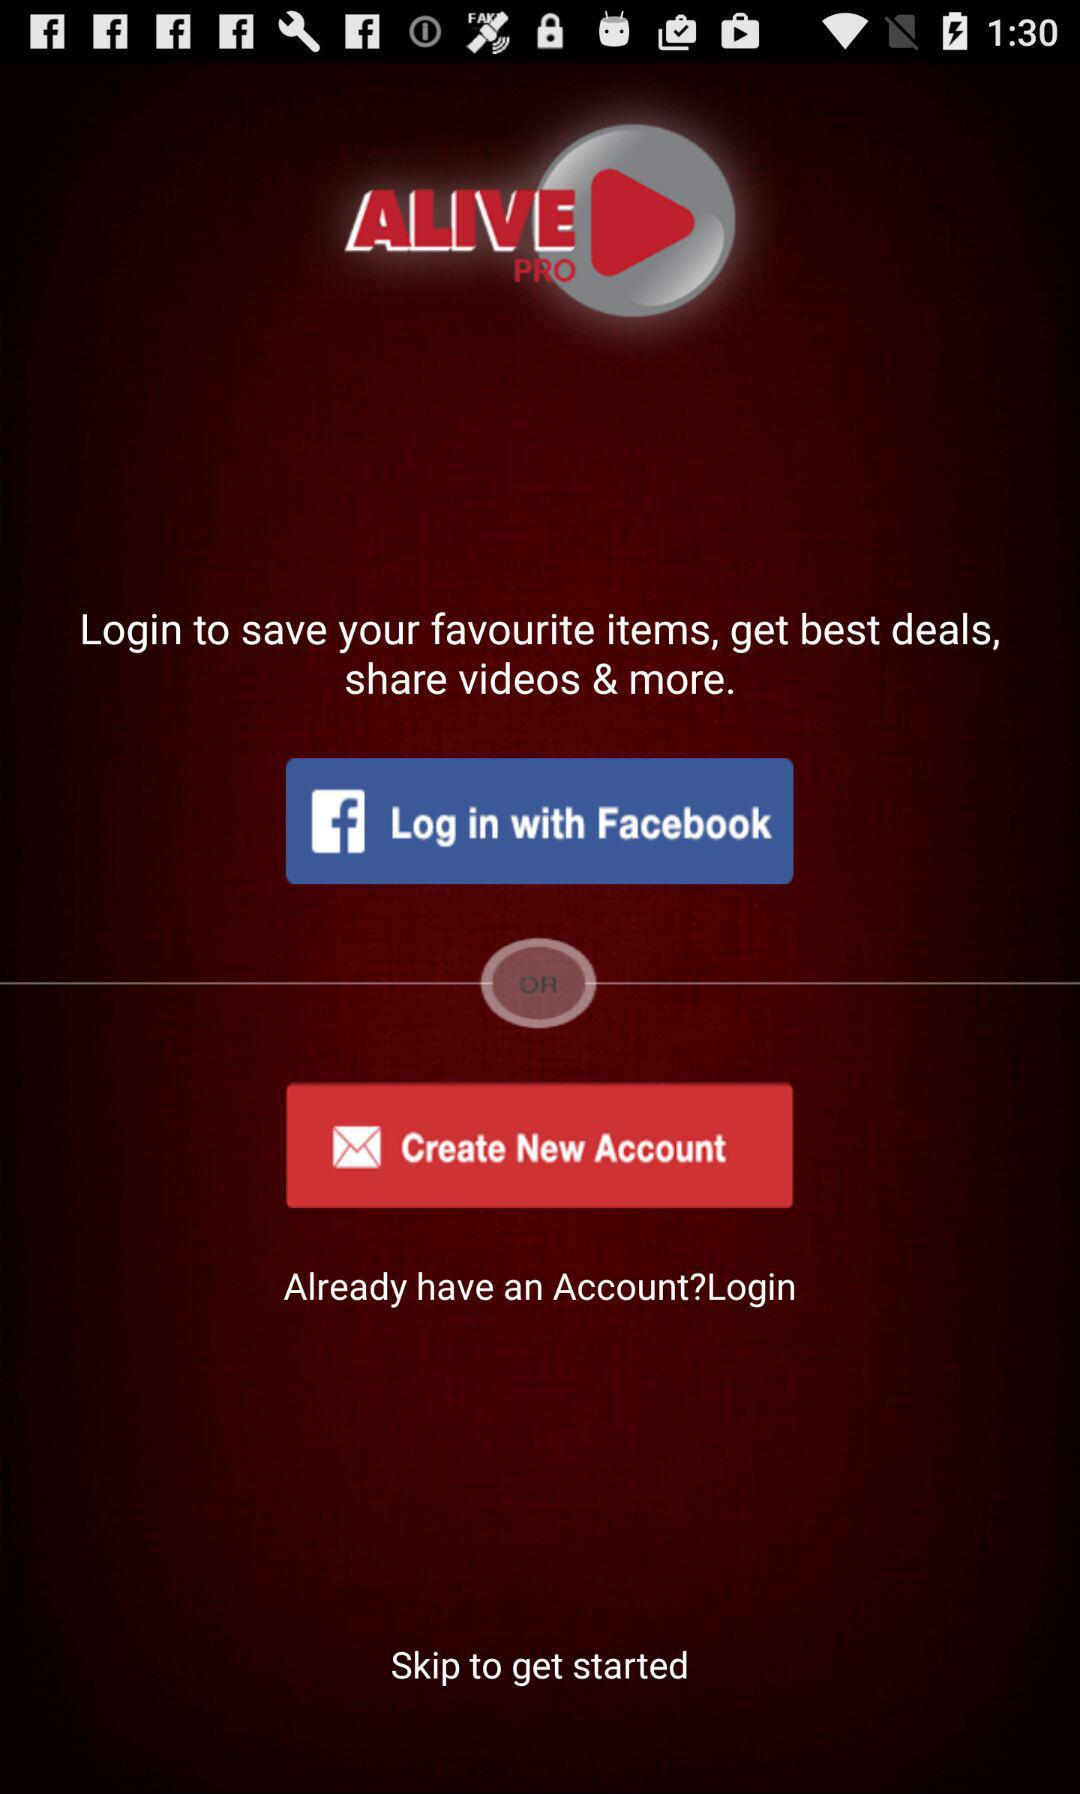Image: (343, 123, 738, 322)
Text: (82, 613, 1001, 696), (284, 1271, 796, 1310), (391, 1650, 688, 1686)
TextButton: (286, 1082, 794, 1210), (286, 759, 794, 885)
UpperTaskBar: (1, 1, 1080, 64)
